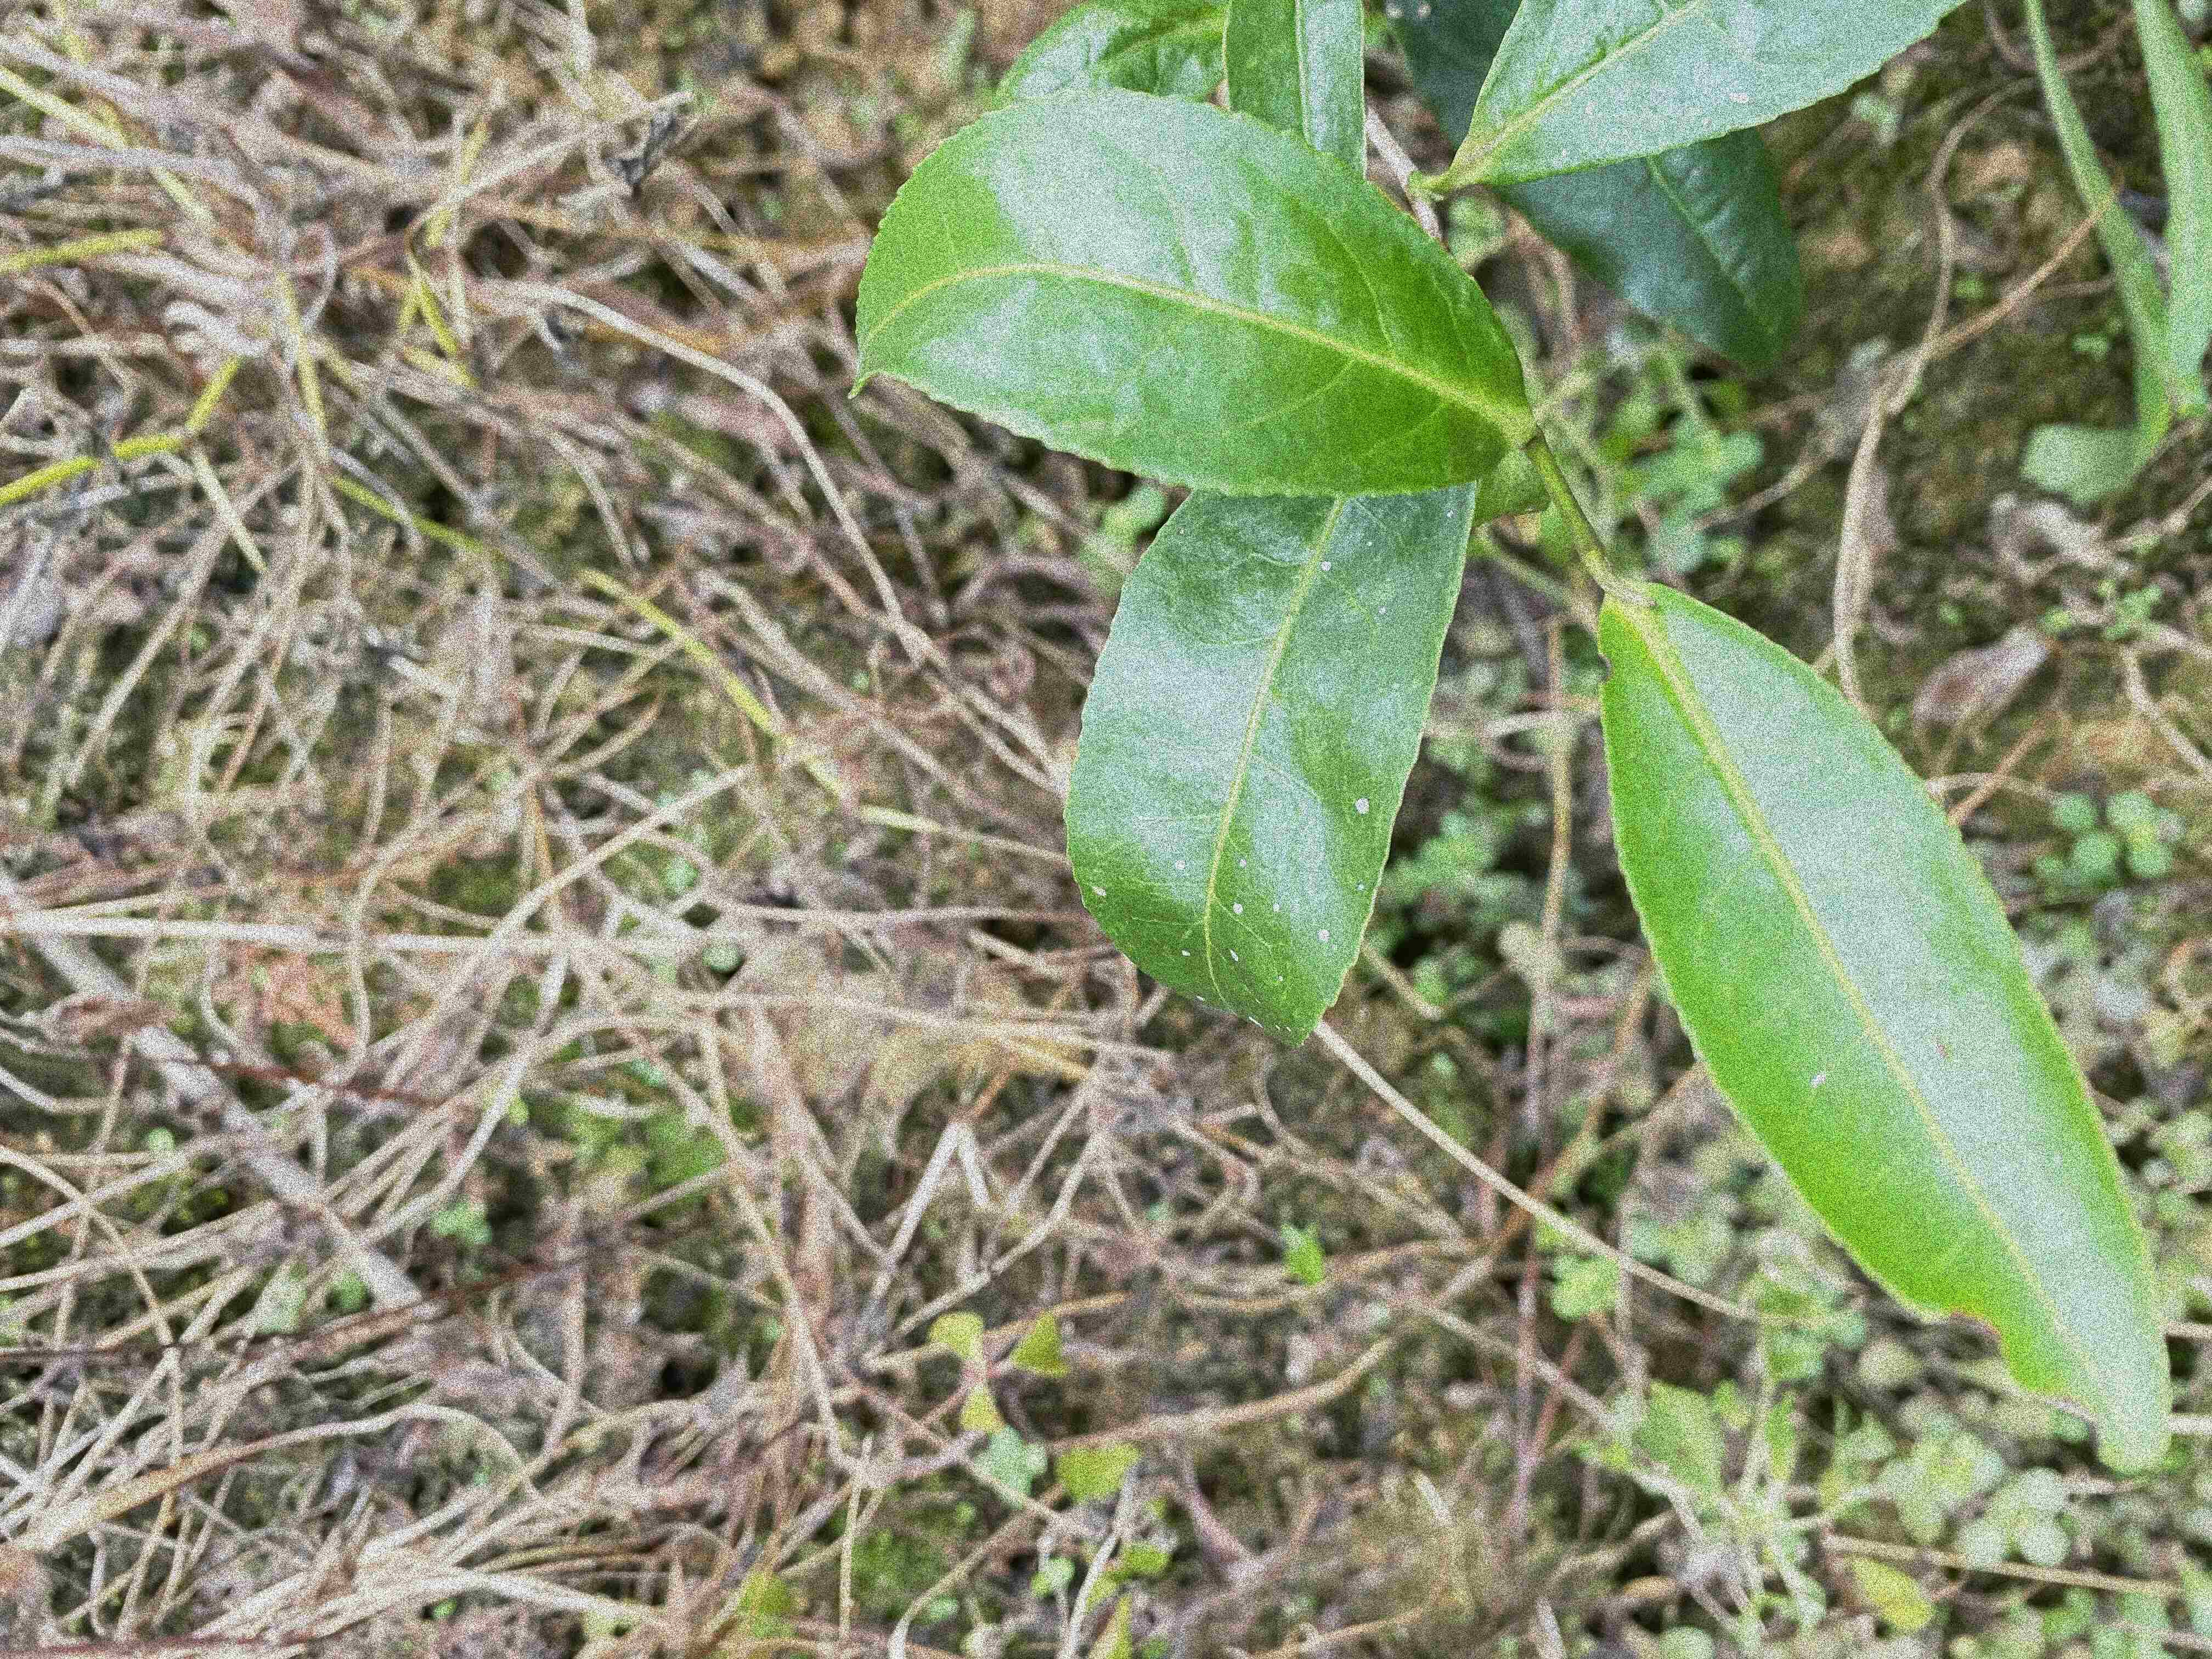chihuo_high: (1594, 579, 2172, 1473)
healthy: (850, 85, 1529, 495)
tanju_low: (1061, 484, 1479, 1047)
